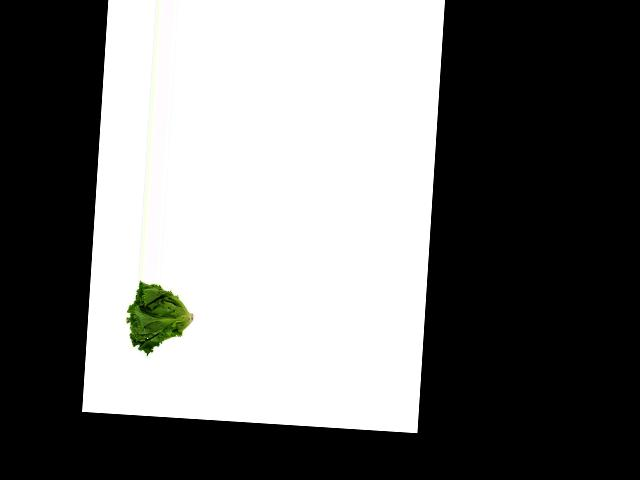lettuce: (121, 279, 197, 355)
